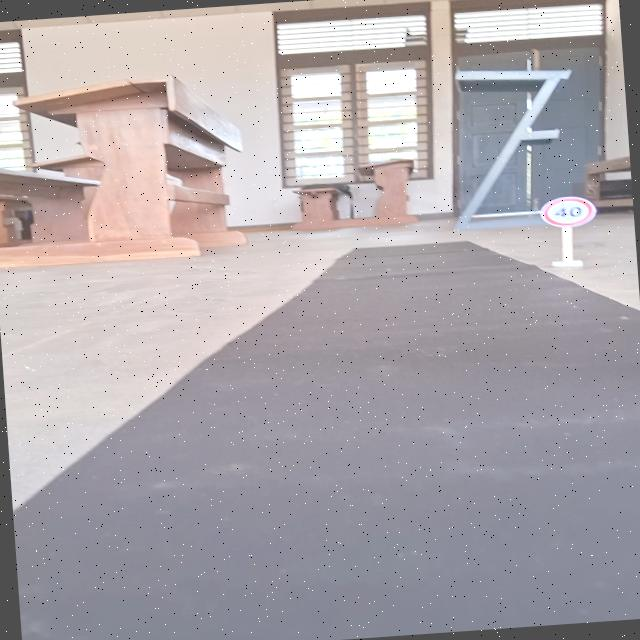Speed40: (536, 192, 600, 231)
